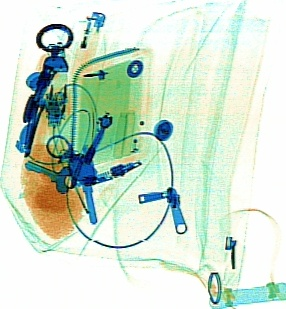lighter: (71, 10, 106, 80)
